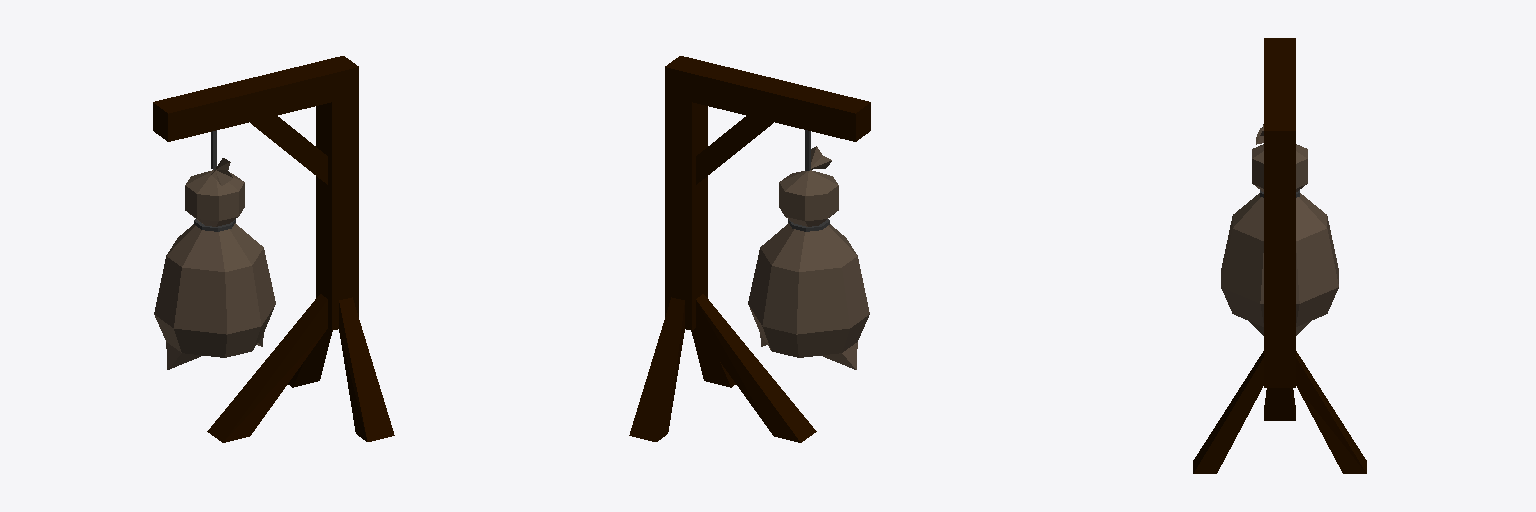
File: dummy.obj
The picture shows the model from 3 angles: view 1: azimuth 30°, elevation 25°; view 2: azimuth 150°, elevation 25°; view 3: azimuth 270°, elevation 25°; orthographic projection.
Size of the model in its own units: 112 by 192 by 88.